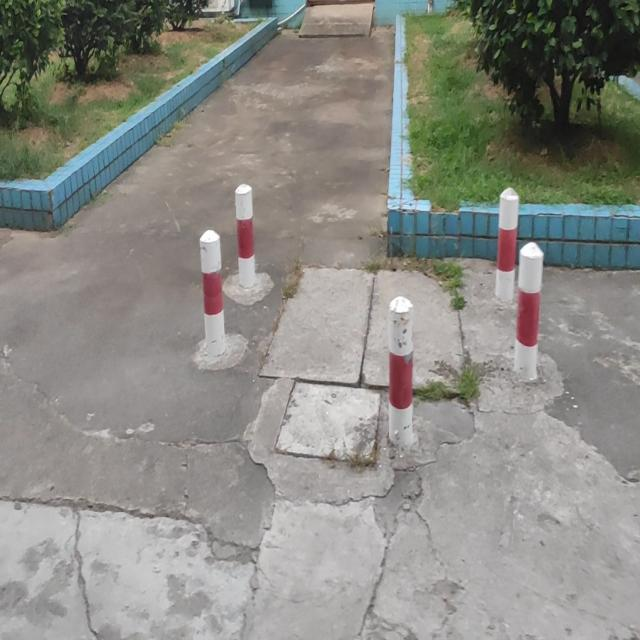warning_column: (385, 298, 417, 446), (514, 238, 543, 377), (195, 231, 226, 340), (494, 187, 520, 304), (232, 178, 259, 290)
